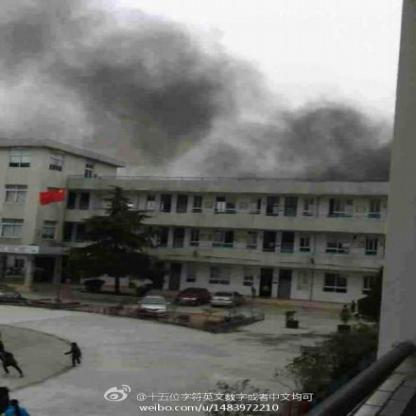smoke: (6, 6, 148, 83), (26, 87, 180, 157), (186, 96, 280, 188), (282, 100, 390, 180), (159, 25, 263, 89)
